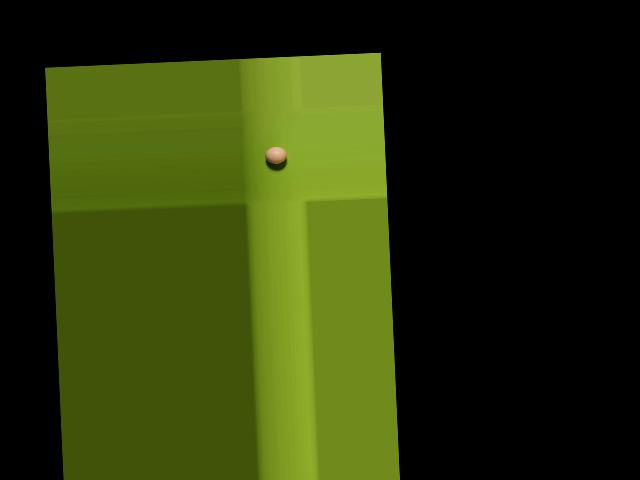egg: (263, 147, 286, 164)
